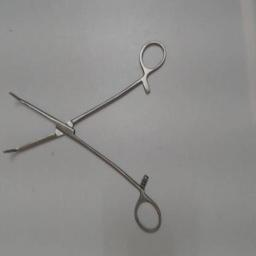Lahey Forceps: (2, 38, 170, 238)
